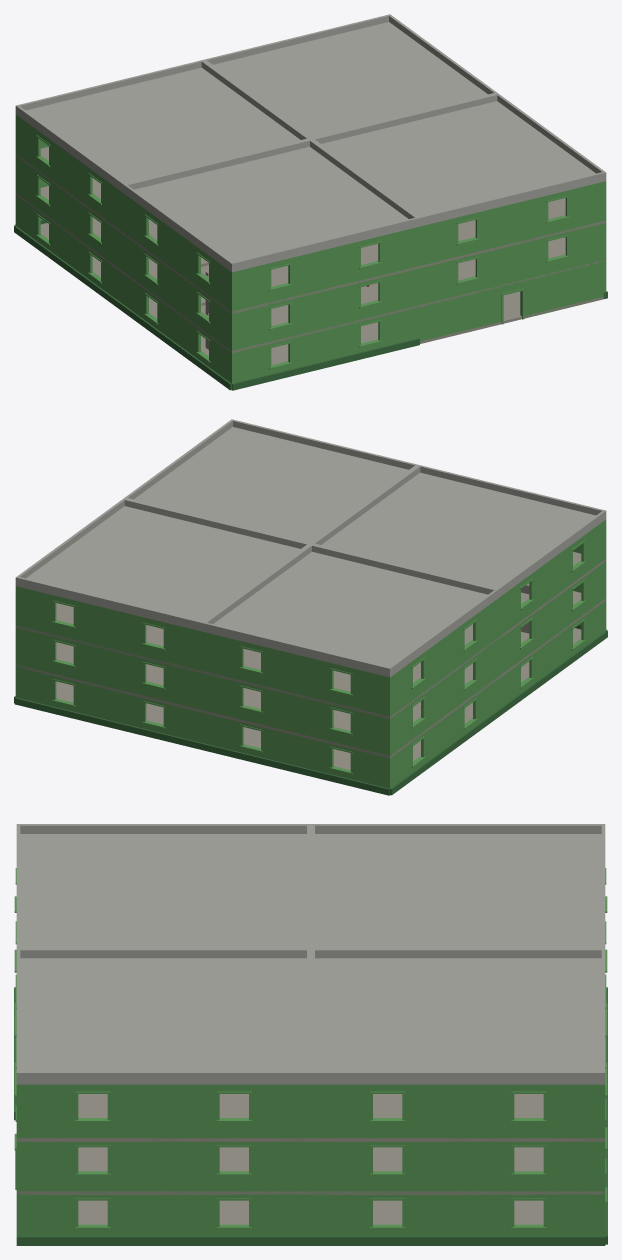
File: apartment_green.glb
3 views of the same model, one above another, from view 1: azimuth 30°, elevation 25°; view 2: azimuth 150°, elevation 25°; view 3: azimuth 270°, elevation 25° (orthographic). The views are drawn at different scales.
Parts seen in each view (by area): view 1: apartment_green; view 2: apartment_green; view 3: apartment_green.
Boxes of the visible parts, x1,y1,x2,y2 form: apartment_green: (14,14,607,390); apartment_green: (14,419,607,795); apartment_green: (14,824,607,1245).
Size of the model in its own units: 30.26 by 9.66 by 30.26.
